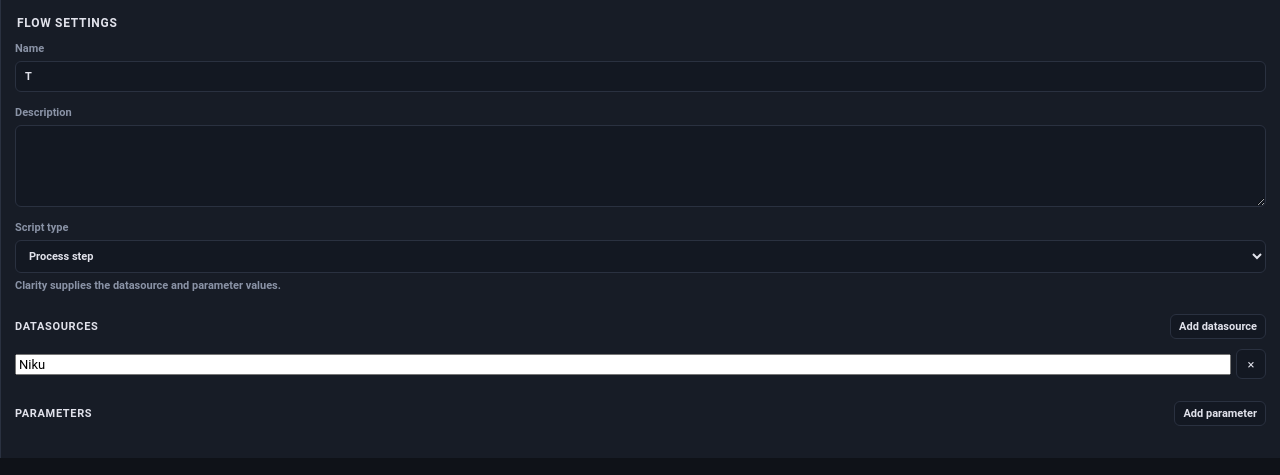
Test: inspector › keeps the flow name in sync with the store while typing
Replace the text in the field named "Flow settings name" with "Renamed" at (640, 76), box [15, 61, 1266, 92]
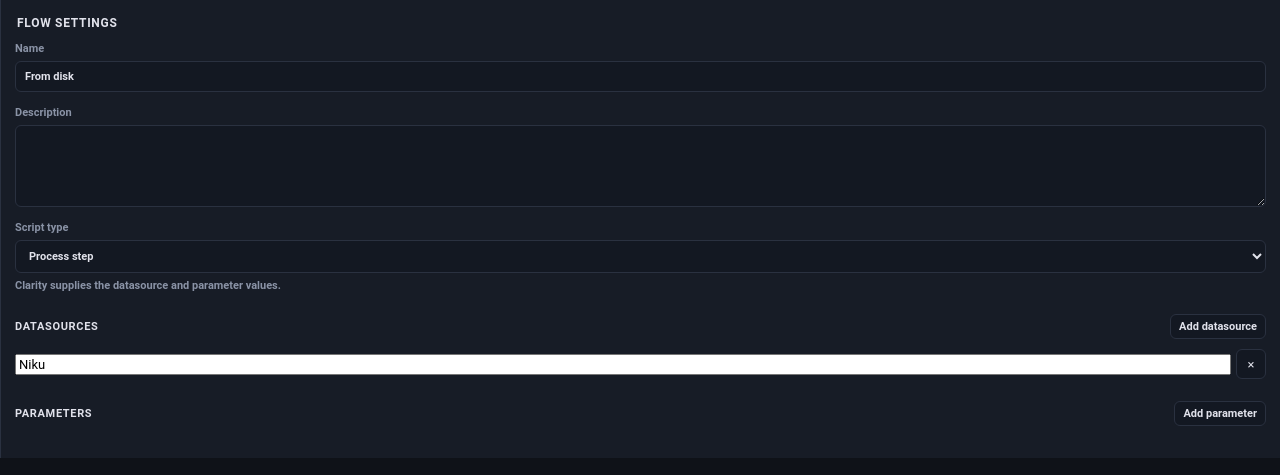
Check: the field named "Flow settings name" holds "From disk", box [15, 61, 1266, 92]
